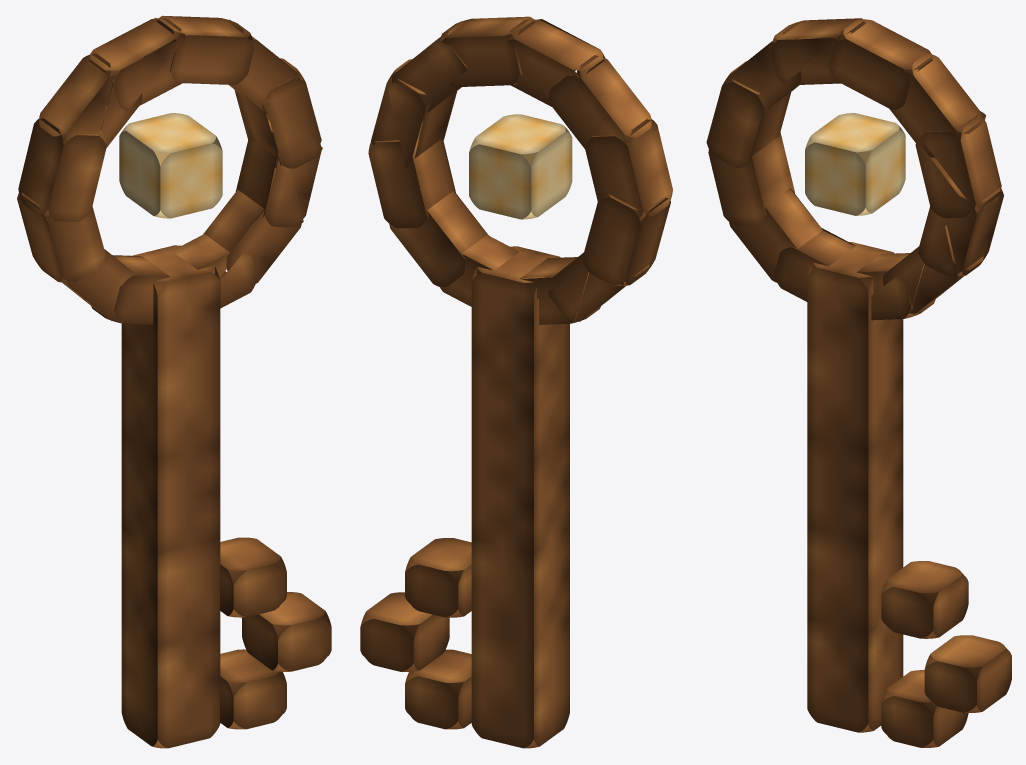
The model's file is gatekeepers_key.obj.
The picture shows the model from 3 angles, left to right: view 1: azimuth 30°, elevation 25°; view 2: azimuth 150°, elevation 25°; view 3: azimuth 330°, elevation 25°; orthographic projection. The views are drawn at different scales.
Parts seen in each view (by area): view 1: lit, fire; view 2: lit, fire; view 3: lit, fire.
Part boxes in pixels (x1,y1,x2,y2): lit: (17,15,331,748); fire: (119,113,222,218); lit: (360,16,672,748); fire: (469,114,572,219); lit: (706,18,1011,747); fire: (805,113,905,215).
Bounding box in the file's own units: 0.3968 × 0.9467 × 0.1.
